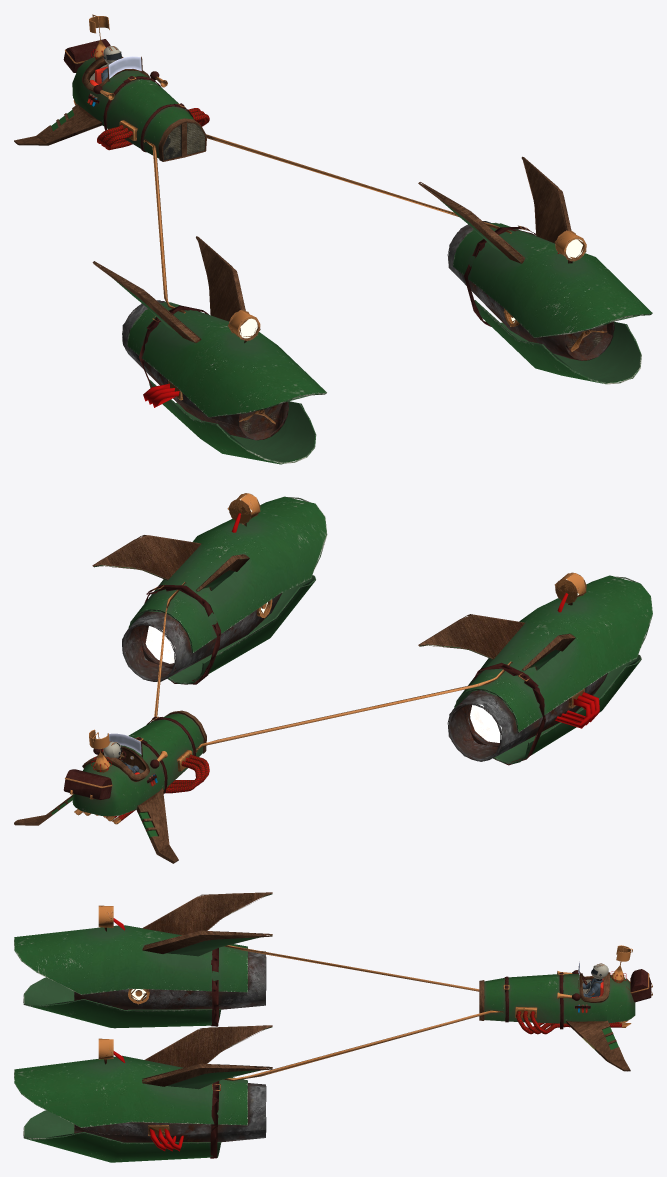
The model's file is verdigris-rival-v1-r48.glb.
The picture shows the model from 3 angles, top to bottom: view 1: azimuth 30°, elevation 25°; view 2: azimuth 150°, elevation 25°; view 3: azimuth 270°, elevation 25°; orthographic projection. The views are drawn at different scales.
Parts seen in each view (by area): view 1: verdigris-body-0, verdigris-body-1; view 2: verdigris-body-0, verdigris-body-1; view 3: verdigris-body-0, verdigris-body-1.
Boxes of the visible parts, left/top/right/bottom form: verdigris-body-0: left=92, top=134, right=652, bottom=464; verdigris-body-1: left=14, top=14, right=209, bottom=161; verdigris-body-0: left=92, top=493, right=652, bottom=765; verdigris-body-1: left=14, top=710, right=209, bottom=863; verdigris-body-0: left=14, top=892, right=503, bottom=1162; verdigris-body-1: left=479, top=945, right=652, bottom=1071.
Size of the model in its own units: 12.02 by 4.42 by 17.76.
8 materials, 8 textured.
